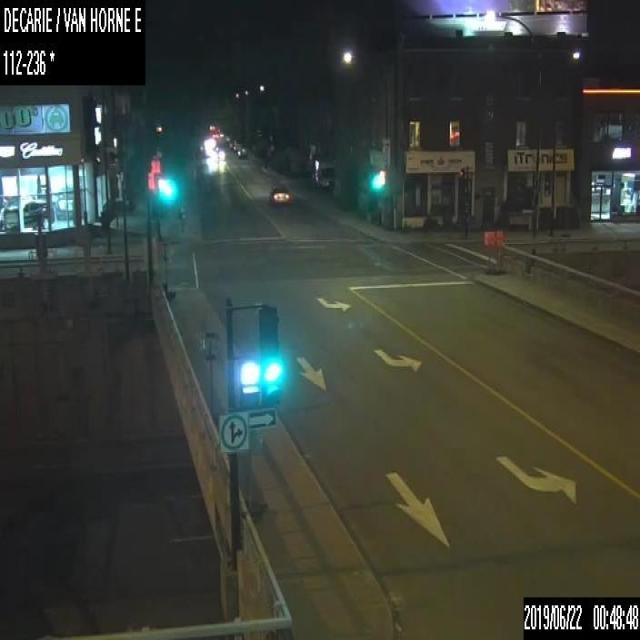construction: (242, 426, 266, 522), (200, 332, 221, 426), (159, 239, 176, 300), (493, 229, 504, 274), (483, 229, 492, 273)
vehicle: (312, 158, 335, 191), (268, 183, 291, 204), (233, 146, 247, 159)
